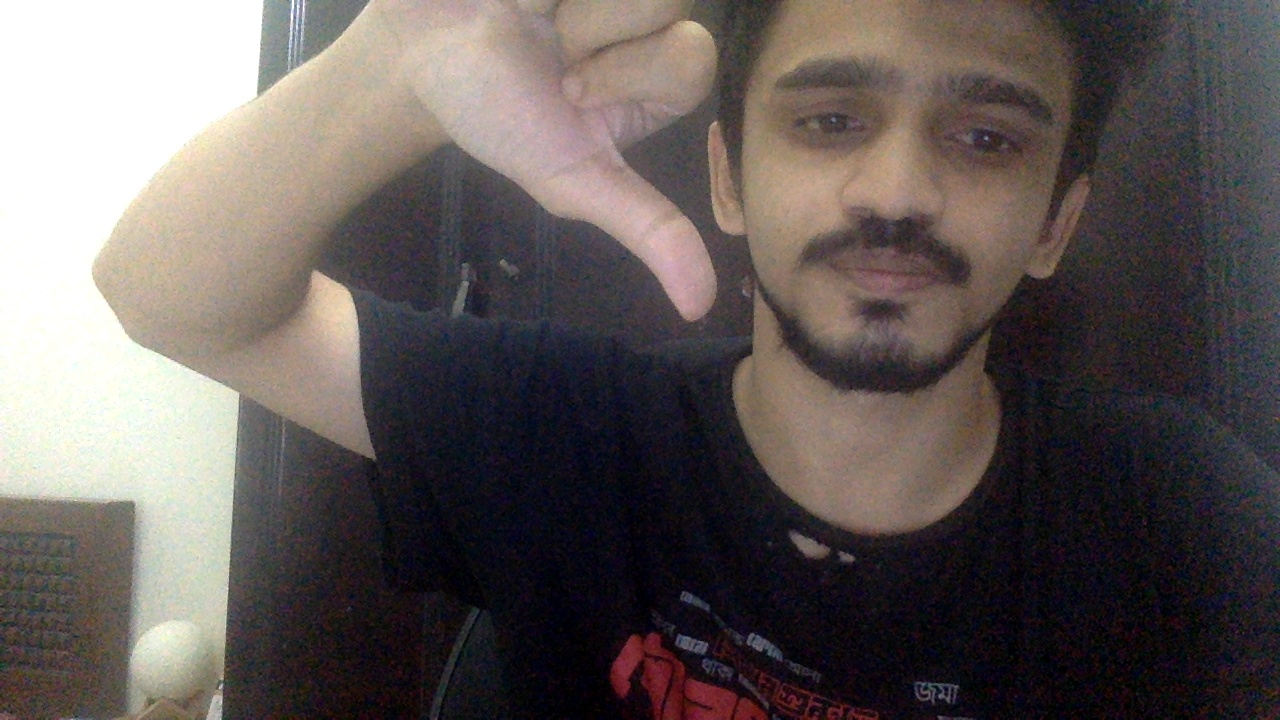bad: (369, 1, 719, 322)
